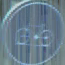bike lane: (4, 0, 58, 59)
